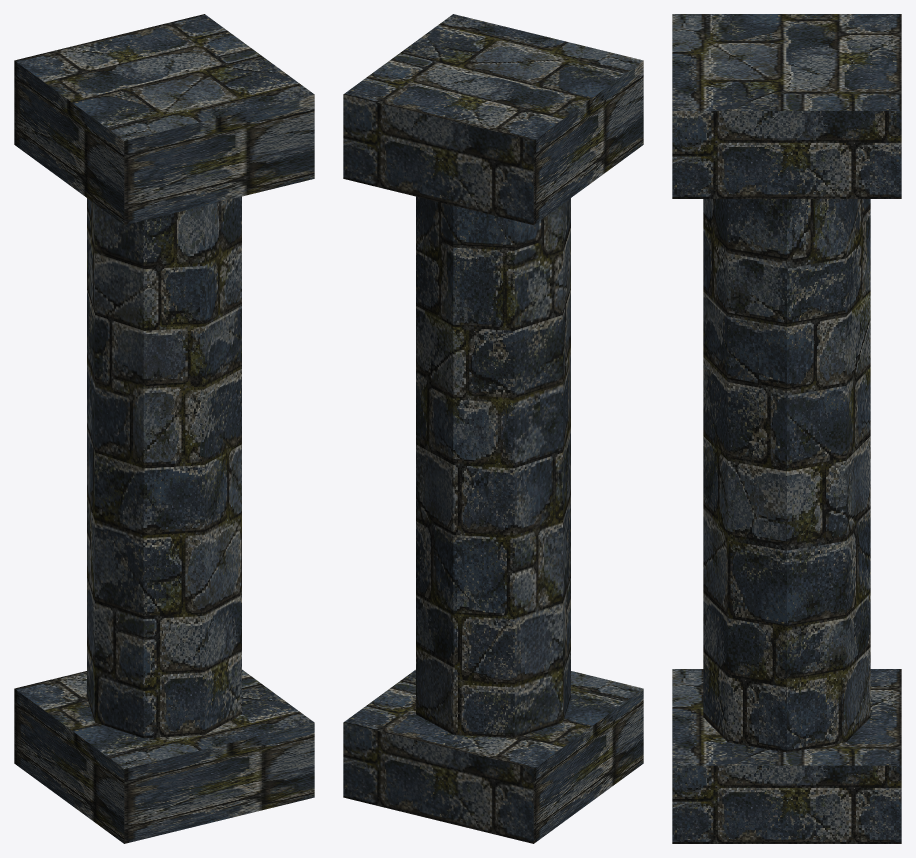
File: M_Pilar.obj
3 views of the same model, side by side, from view 1: azimuth 30°, elevation 25°; view 2: azimuth 150°, elevation 25°; view 3: azimuth 270°, elevation 25° (orthographic). The views are drawn at different scales.
Visible parts, largest first — view 1: M_Pilar; view 2: M_Pilar; view 3: M_Pilar.
Part boxes in pixels (x1=…): M_Pilar: x1=14, y1=14, x2=314, y2=843; M_Pilar: x1=343, y1=14, x2=643, y2=843; M_Pilar: x1=672, y1=14, x2=901, y2=843.
Bounding box in the file's own units: 0.85 × 3 × 0.85.
Materials: 1 (1 with a texture image).
